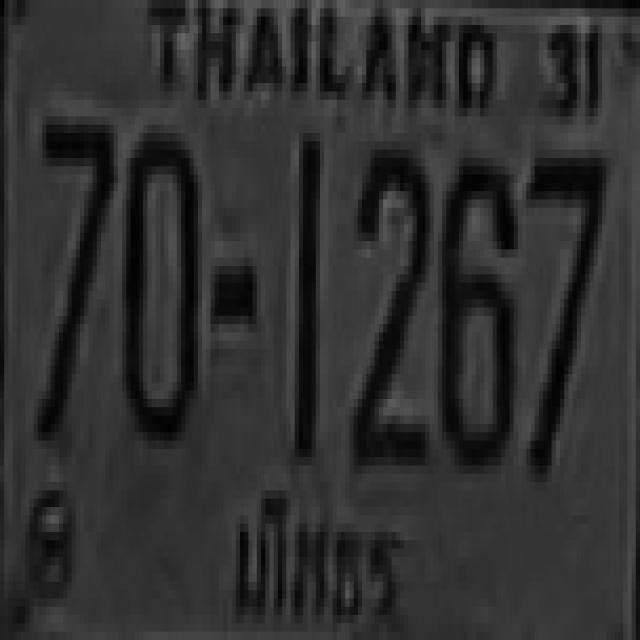0: (120, 125, 196, 432)
1: (290, 137, 316, 453), (295, 129, 316, 453)
2: (350, 141, 426, 457)
6: (438, 150, 514, 466)
7: (526, 146, 602, 470), (34, 108, 110, 432)
Yasothon: (225, 479, 410, 638)
